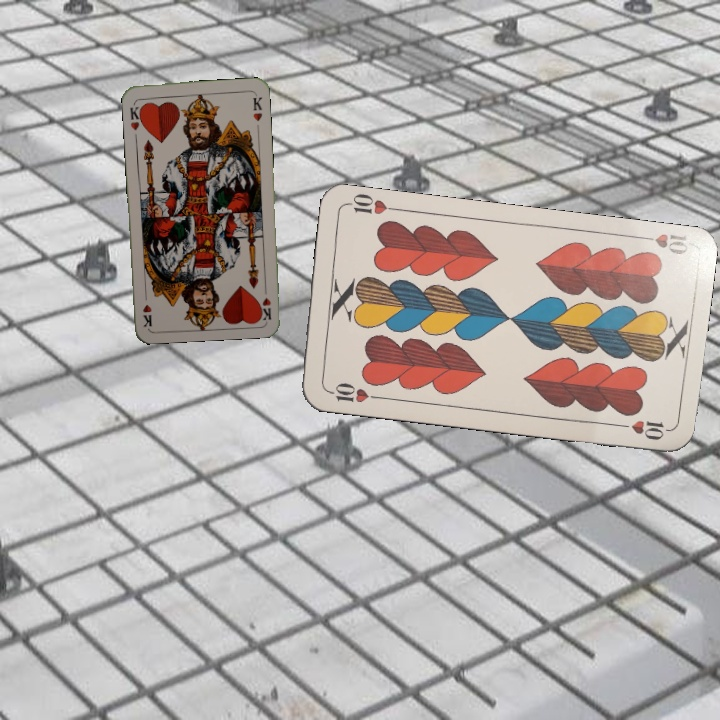H10: (633, 229, 691, 258), (322, 378, 381, 406)
HK: (126, 99, 146, 133), (257, 281, 274, 321)
